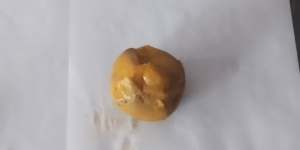BAD: (110, 45, 186, 121)
